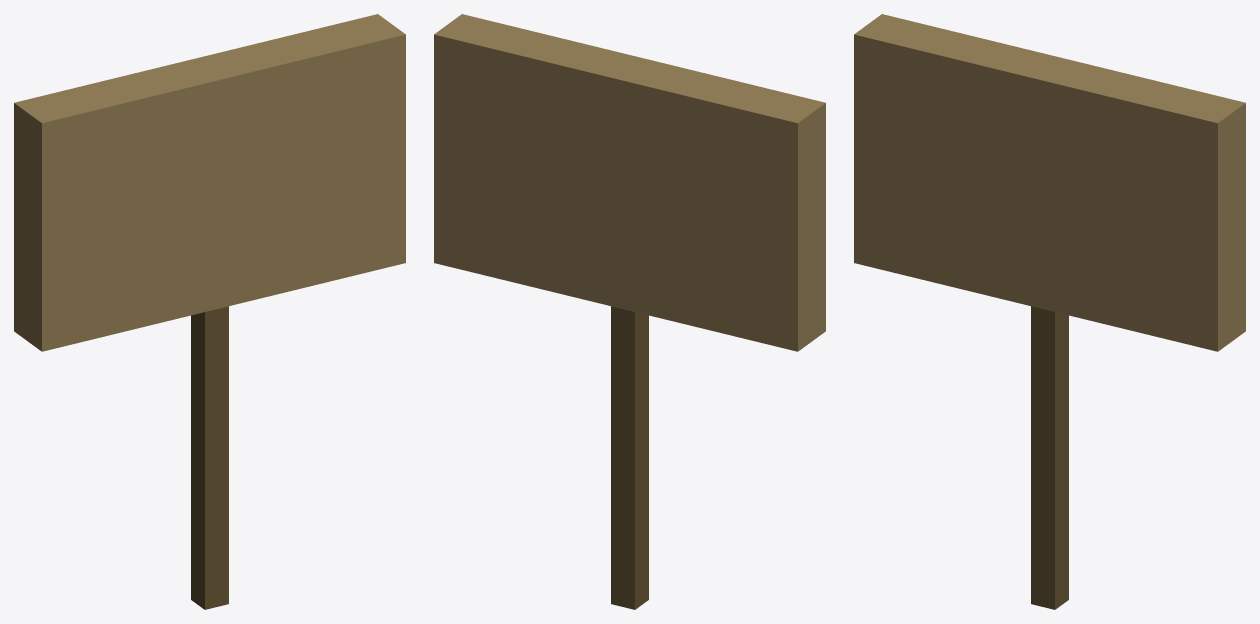
Rendered from sign.dae.
3 renders of one model, left to right at view 1: azimuth 30°, elevation 25°; view 2: azimuth 150°, elevation 25°; view 3: azimuth 330°, elevation 25°, orthographic.
Parts seen in each view (by area): view 1: Cube_001; view 2: Cube_001; view 3: Cube_001.
Part boxes in pixels (<box>): Cube_001: <box>14,14,405,609</box>; Cube_001: <box>434,14,825,609</box>; Cube_001: <box>854,14,1245,609</box>.
Size of the model in its own units: 3 by 0.4 by 4.2.
